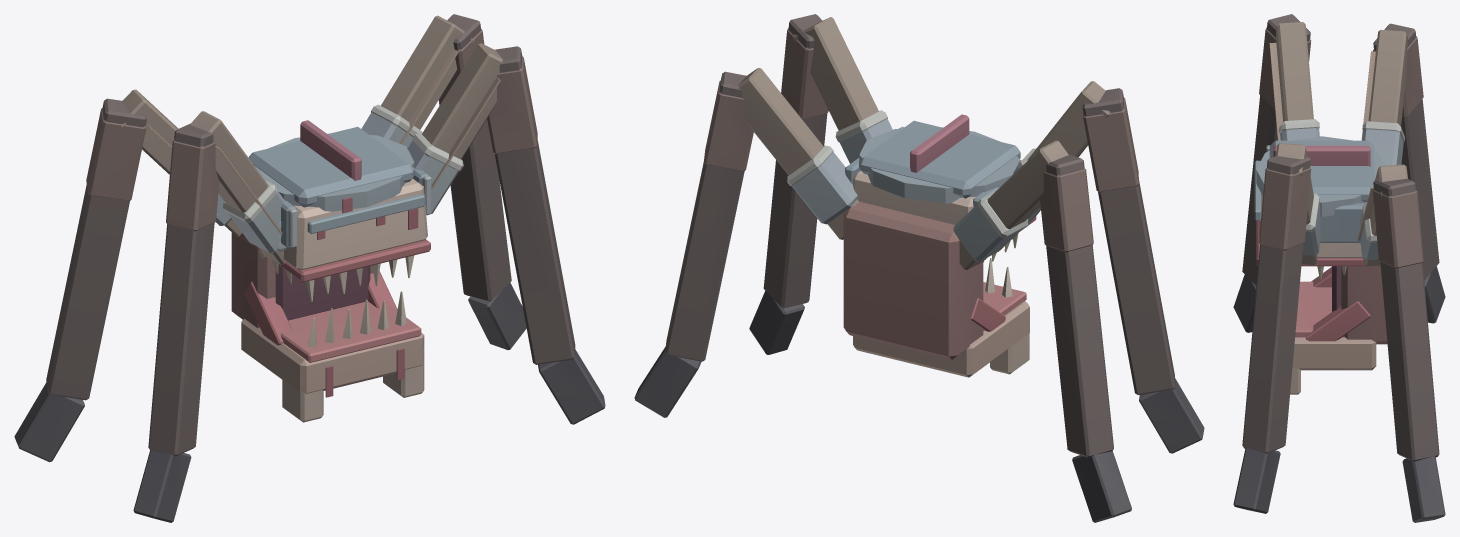
File: PrimitiveSummonerKnight.glb
3 renders of one model, left to right at view 1: azimuth 30°, elevation 25°; view 2: azimuth 150°, elevation 25°; view 3: azimuth 270°, elevation 25°, orthographic. The views are drawn at different scales.
Visible parts, largest first — view 1: Body, ArmR, ArmL, LegR, LegL, Head; view 2: Body, LegR, LegL, ArmR, ArmL, Head; view 3: ArmL, LegL, Body, LegR, ArmR, Head.
Boxes of the visible parts, x1,y1,x2,y2 form: Body: (231,120,431,327); ArmR: (133,111,285,522); ArmL: (407,43,605,424); LegR: (14,89,242,462); LegL: (361,14,526,349); Head: (241,271,424,422); Body: (843,114,1036,359); LegR: (953,140,1131,522); LegL: (634,68,858,417); ArmR: (1012,81,1204,453); ArmL: (749,14,892,354); Head: (853,258,1029,377); ArmL: (1233,143,1320,513); LegL: (1357,164,1445,522); Body: (1254,136,1387,344); LegR: (1361,23,1445,323); ArmR: (1233,14,1319,332); Head: (1290,267,1376,394).
Bounding box in the file's own units: 10.01 × 6.99 × 3.98.
